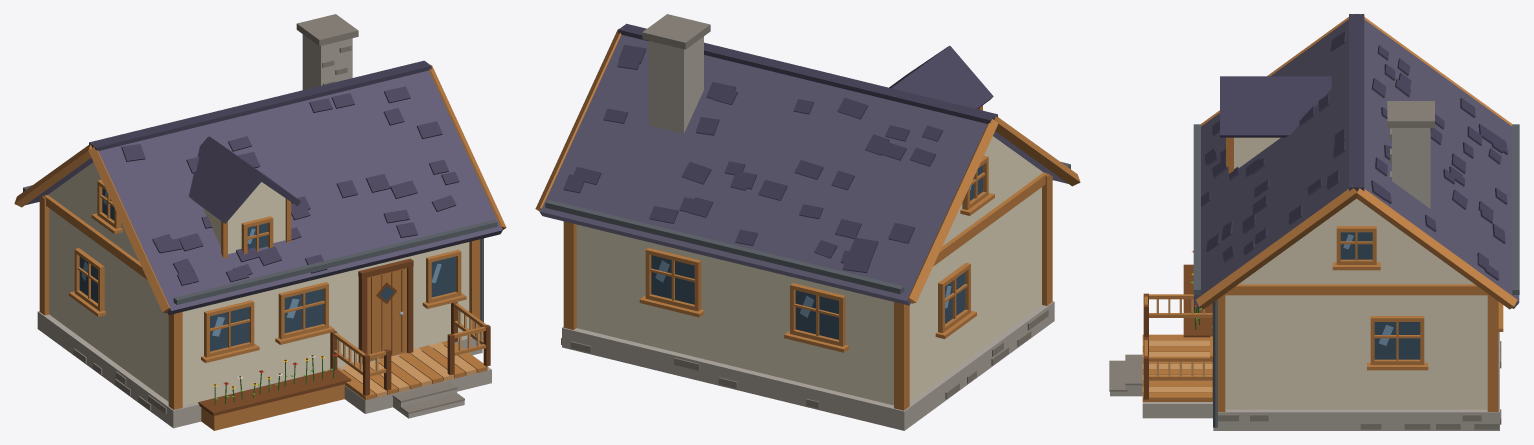
Rendered from casa.glb.
3 renders of one model, left to right at view 1: azimuth 30°, elevation 25°; view 2: azimuth 150°, elevation 25°; view 3: azimuth 270°, elevation 25°, orthographic. The views are drawn at different scales.
Visible parts, largest first — view 1: casa_tejado, casa_estuco, casa_madera, casa_tejado_osc, casa_piedra, casa_madera_osc, casa_cristal, casa_piedra_osc, casa_metal_osc, casa_madera_clara, casa_cristal_luz; view 2: casa_tejado, casa_estuco, casa_tejado_osc, casa_madera, casa_piedra, casa_cristal, casa_metal_osc, casa_piedra_osc; view 3: casa_estuco, casa_tejado, casa_madera, casa_tejado_osc, casa_piedra, casa_piedra_osc, casa_metal_osc, casa_cristal, casa_madera_clara, casa_madera_osc.
Part boxes in pixels (left/top/right/bottom): casa_tejado: left=25, top=70, right=502, bottom=314; casa_estuco: left=48, top=162, right=469, bottom=405; casa_madera: left=14, top=62, right=506, bottom=430; casa_tejado_osc: left=89, top=60, right=459, bottom=285; casa_piedra: left=37, top=34, right=491, bottom=428; casa_madera_osc: left=198, top=258, right=490, bottom=415; casa_cristal: left=79, top=188, right=455, bottom=351; casa_piedra_osc: left=73, top=14, right=464, bottom=413; casa_metal_osc: left=23, top=185, right=497, bottom=339; casa_madera_clara: left=337, top=310, right=483, bottom=397; casa_cristal_luz: left=81, top=191, right=441, bottom=336; casa_tejado: left=539, top=34, right=1068, bottom=305; casa_estuco: left=576, top=136, right=1043, bottom=405; casa_tejado_osc: left=563, top=23, right=997, bottom=273; casa_madera: left=535, top=25, right=1080, bottom=410; casa_piedra: left=562, top=36, right=1054, bottom=430; casa_cristal: left=651, top=165, right=982, bottom=339; casa_metal_osc: left=545, top=161, right=1070, bottom=294; casa_piedra_osc: left=561, top=14, right=1048, bottom=408; casa_estuco: left=1225, top=137, right=1487, bottom=409; casa_tejado: left=1194, top=19, right=1519, bottom=308; casa_madera: left=1142, top=14, right=1517, bottom=411; casa_tejado_osc: left=1201, top=14, right=1508, bottom=280; casa_piedra: left=1110, top=128, right=1499, bottom=430; casa_piedra_osc: left=1109, top=101, right=1501, bottom=429; casa_metal_osc: left=1193, top=124, right=1519, bottom=427; casa_cristal: left=1340, top=232, right=1420, bottom=359; casa_madera_clara: left=1142, top=299, right=1212, bottom=392; casa_madera_osc: left=1143, top=264, right=1212, bottom=399.
Bounding box in the file's own units: 9.22 × 6.98 × 9.01.
